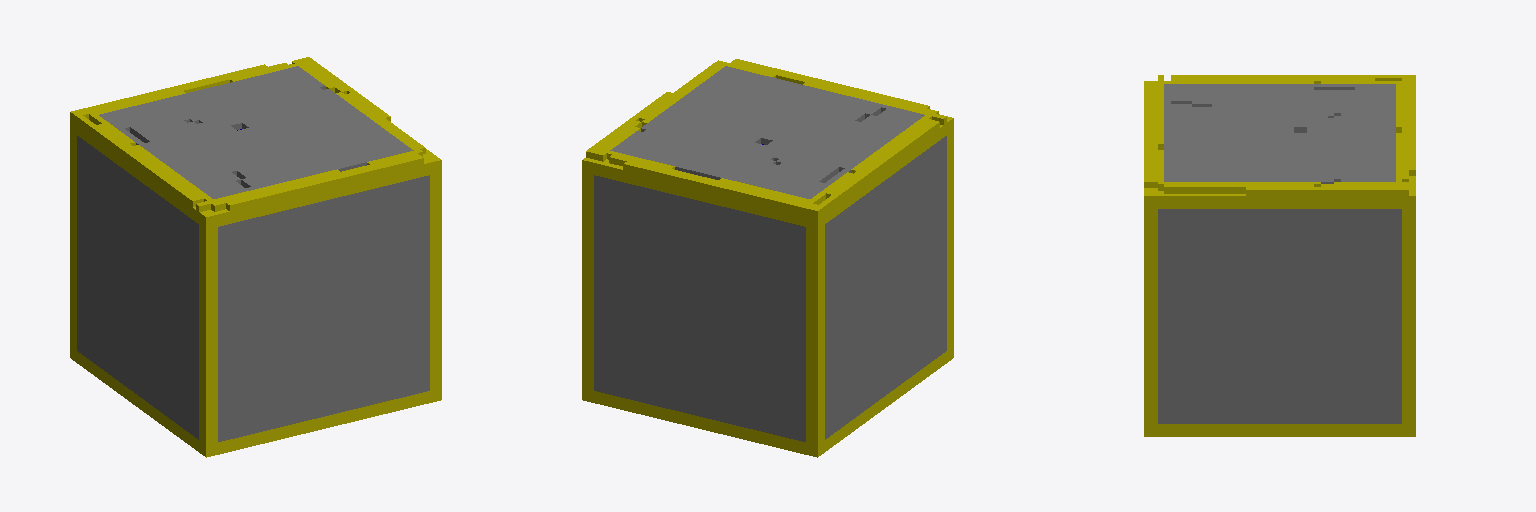
The picture shows the model from 3 angles: view 1: azimuth 30°, elevation 25°; view 2: azimuth 150°, elevation 25°; view 3: azimuth 270°, elevation 25°; orthographic projection.
Visible parts, largest first — view 1: object 1; view 2: object 1; view 3: object 1.
Boxes of the visible parts, box(x1,y1,x2,y2) form: object 1: box(70, 57, 441, 457); object 1: box(582, 59, 953, 457); object 1: box(1144, 75, 1415, 436).
Bounding box in the file's own units: 4 × 4 × 4.
Materials: 1 (1 with a texture image).